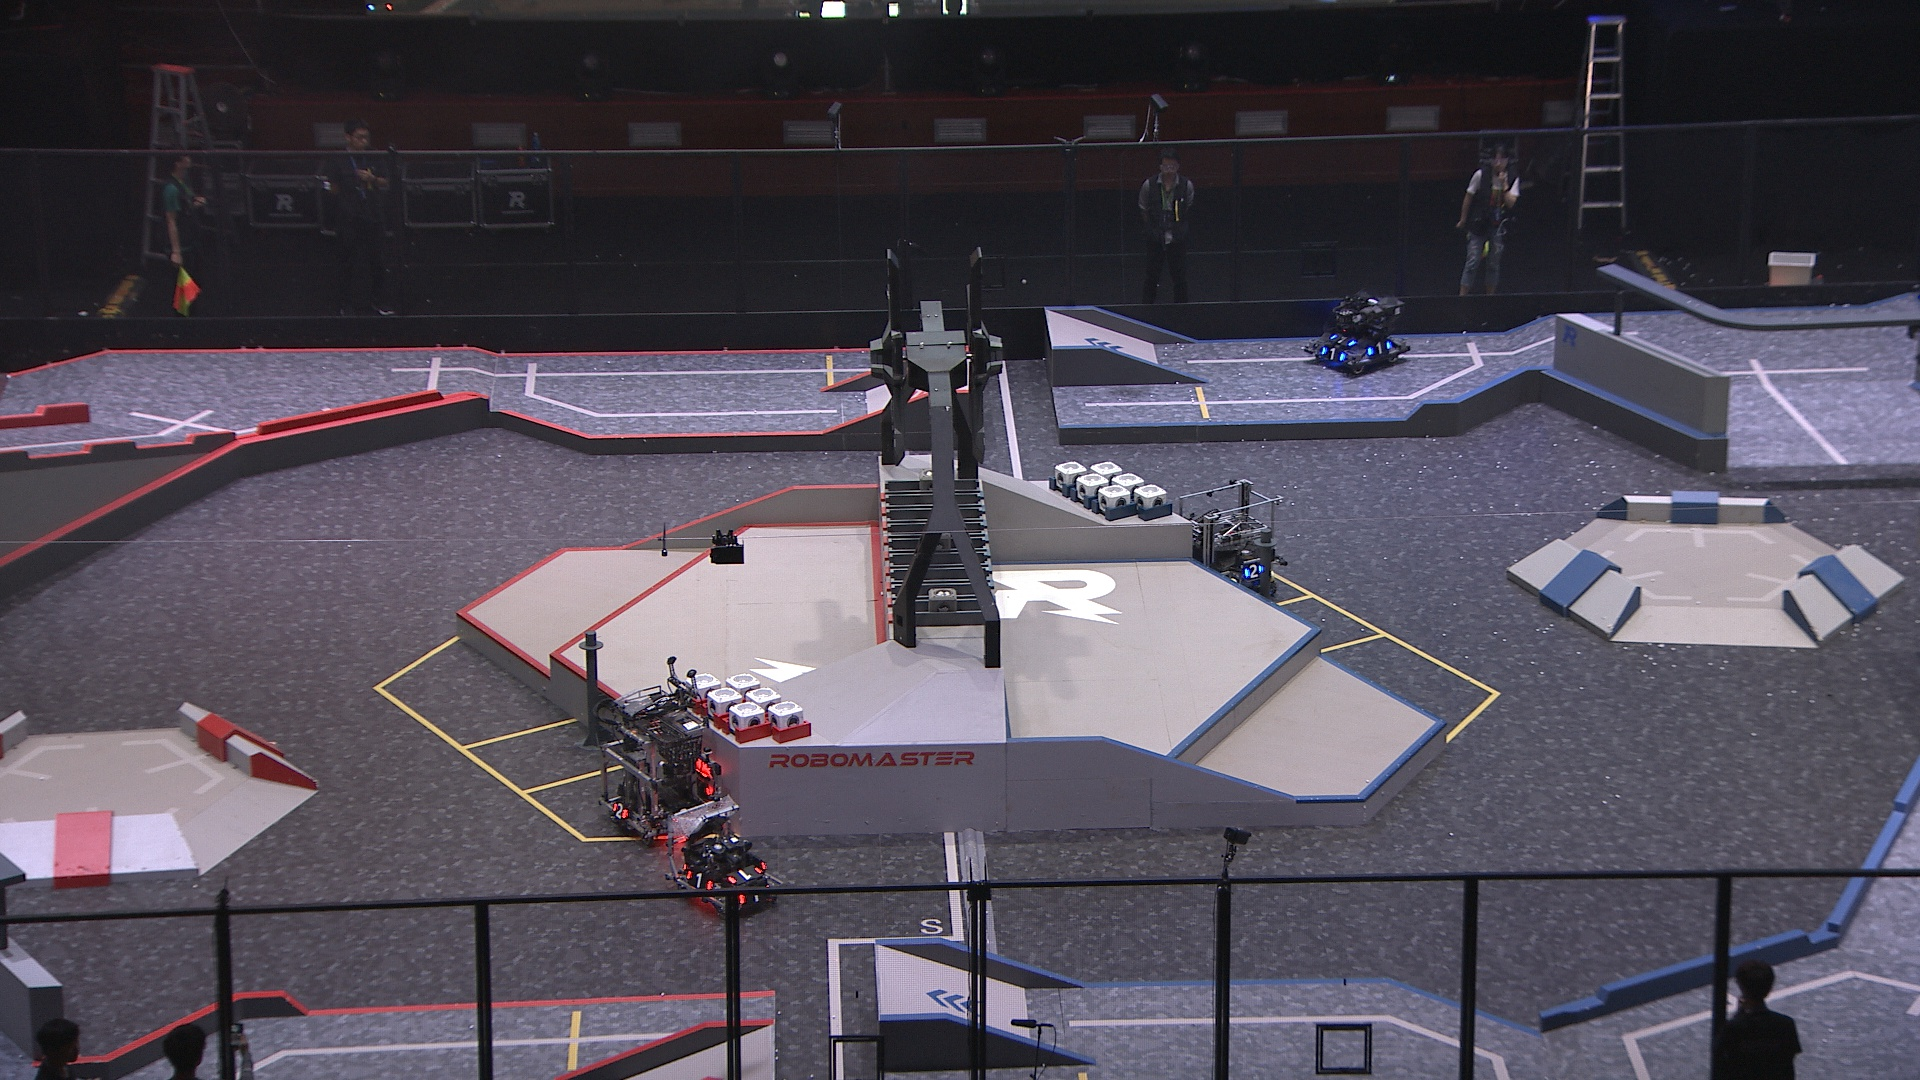armor: (683, 866, 716, 897), (737, 884, 771, 909), (727, 865, 764, 885), (1367, 338, 1394, 360), (1331, 330, 1360, 348), (609, 798, 632, 822), (1321, 347, 1346, 365), (1242, 564, 1267, 580)
car: (591, 680, 731, 847), (662, 796, 789, 918), (1168, 484, 1276, 612), (1300, 286, 1411, 376)
